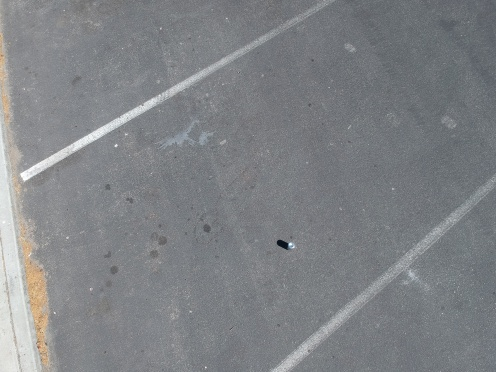can: (282, 239, 306, 260)
